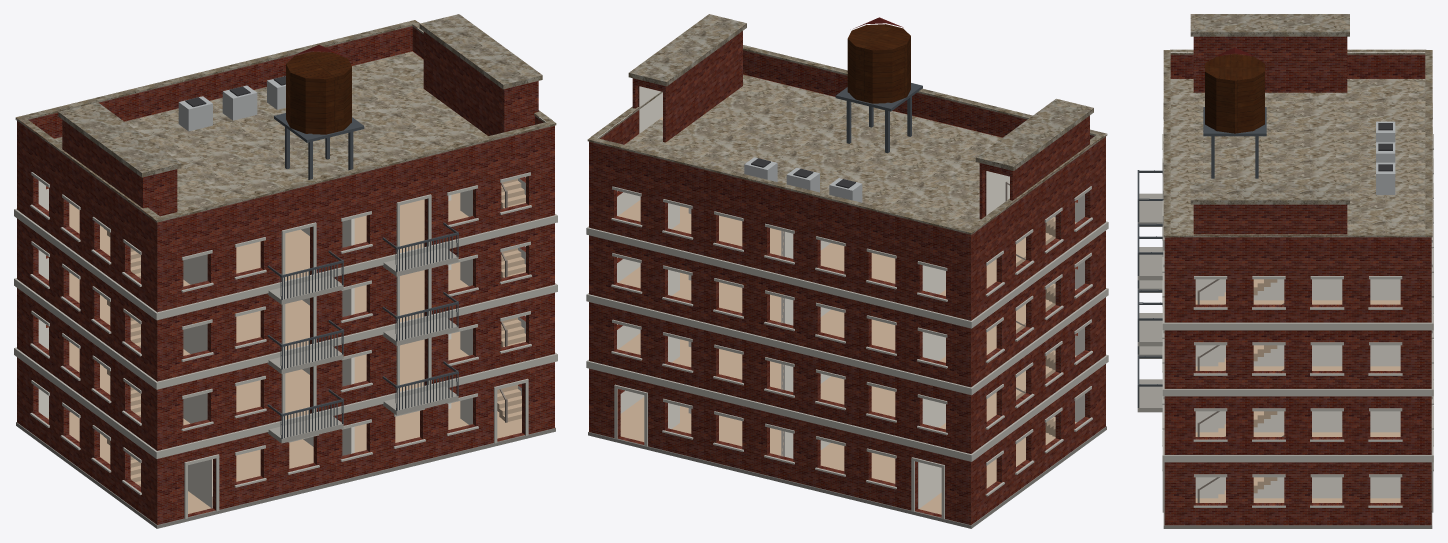
File: mh-block-flats.towns-v2.lod0.glb
3 views of the same model, side by side, from view 1: azimuth 30°, elevation 25°; view 2: azimuth 150°, elevation 25°; view 3: azimuth 270°, elevation 25° (orthographic). The views are drawn at different scales.
Parts seen in each view (by area): view 1: mh-block-flats; view 2: mh-block-flats; view 3: mh-block-flats.
Boxes of the visible parts, x1,y1,x2,y2 form: mh-block-flats: (14, 14, 557, 528); mh-block-flats: (586, 14, 1108, 528); mh-block-flats: (1137, 14, 1433, 528).
Size of the model in its own units: 18.18 by 17.67 by 12.22.
Materials: 6 (3 with a texture image).
